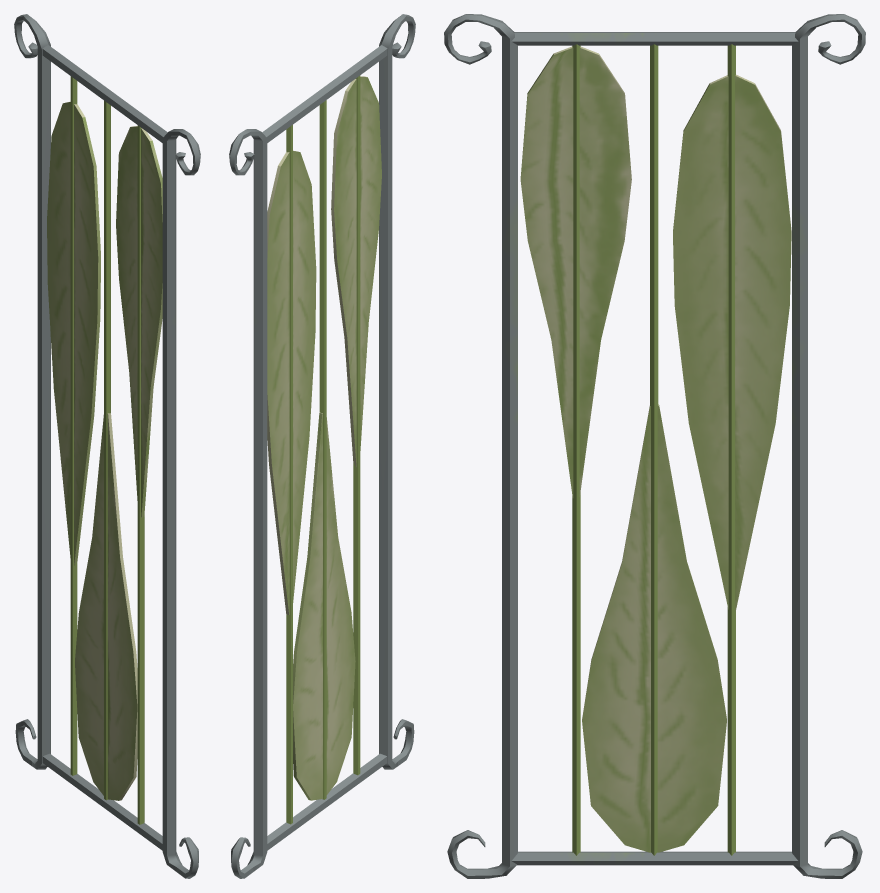
Rendered from Divider01.fbx.
3 views of the same model, side by side, from view 1: azimuth 30°, elevation 25°; view 2: azimuth 150°, elevation 25°; view 3: azimuth 270°, elevation 25° (orthographic). The views are drawn at different scales.
Parts seen in each view (by area): view 1: Divider01; view 2: Divider01; view 3: Divider01.
Part boxes in pixels (x1=…): Divider01: x1=14, y1=14, x2=200, y2=878; Divider01: x1=229, y1=14, x2=415, y2=878; Divider01: x1=444, y1=14, x2=865, y2=878.
Bounding box in the file's own units: 0.2503 × 14.6 × 6.46.
